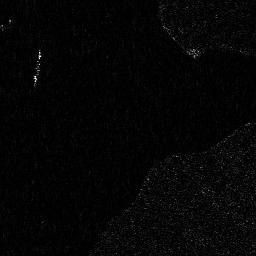ship: (31, 46, 43, 85)
